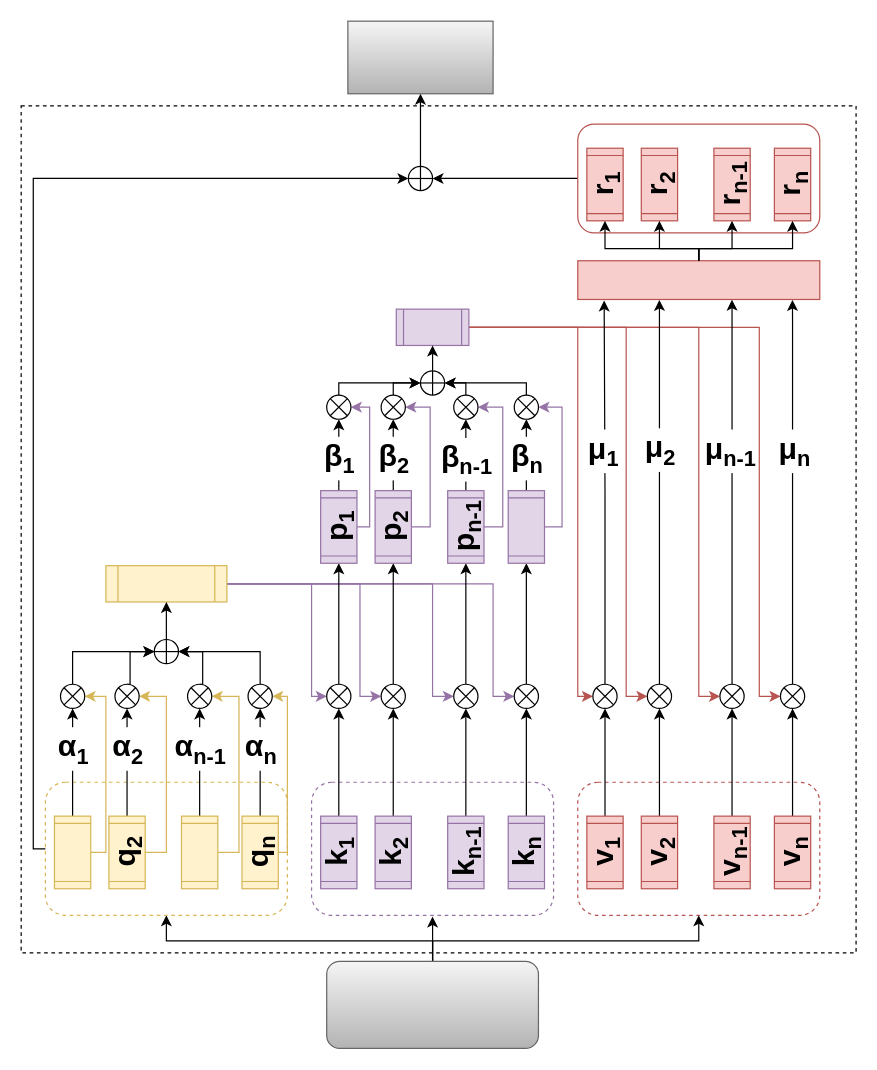
Image size: 877x1070. Some labels were removed from this diagram. Each missing label, with the centre of its shape:
"key" belongs at (x=432, y=326).
"LP" belongs at (x=698, y=279).
"MLP Head" belongs at (x=420, y=57).
"p n" belongs at (x=525, y=526).
"q 1" belongs at (x=72, y=852).
"q n-1" belongs at (x=199, y=852).
"QKV LP" belongs at (x=431, y=1004).
"query" belongs at (x=166, y=583).
